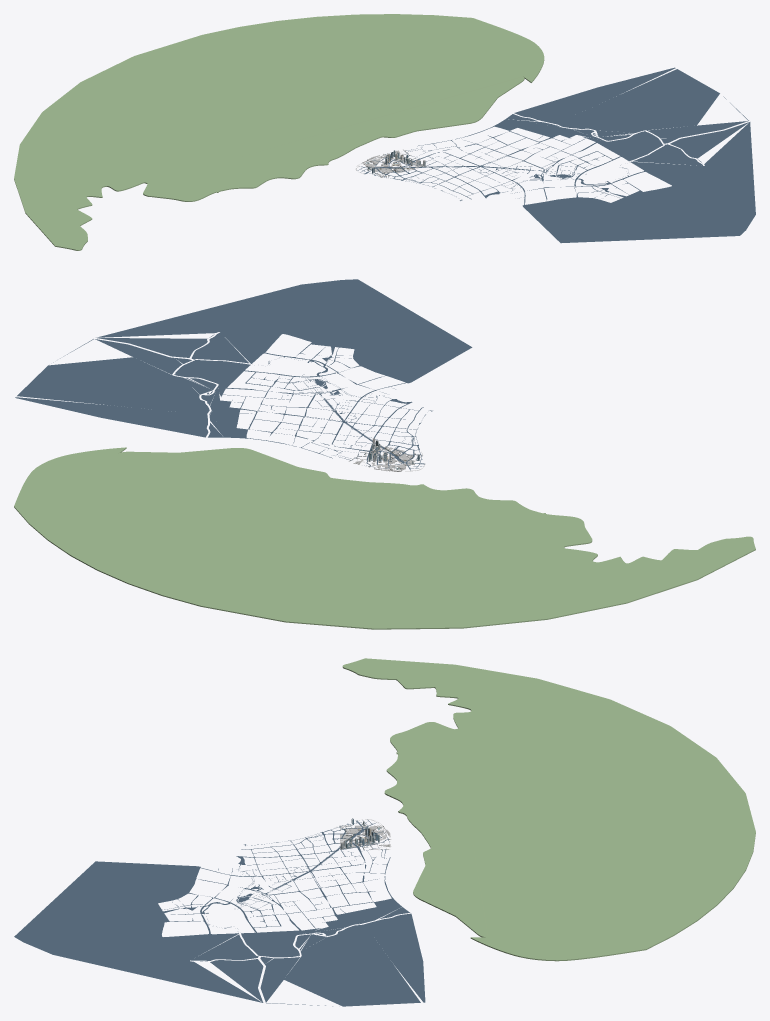
File: lujiazui-0.glb
The picture shows the model from 3 angles, top to bottom: view 1: azimuth 30°, elevation 25°; view 2: azimuth 150°, elevation 25°; view 3: azimuth 270°, elevation 25°; orthographic projection. The views are drawn at different scales.
Parts seen in each view (by area): view 1: source_833_DX_草地_part0, source_1281_Mat3d66-1303573-2113-6182_part0; view 2: source_833_DX_草地_part0, source_1281_Mat3d66-1303573-2113-6182_part0; view 3: source_833_DX_草地_part0, source_1281_Mat3d66-1303573-2113-6182_part0.
Part boxes in pixels (left/top/right/bottom): source_833_DX_草地_part0: left=14, top=14, right=544, bottom=250; source_1281_Mat3d66-1303573-2113-6182_part0: left=357, top=67, right=755, bottom=243; source_833_DX_草地_part0: left=14, top=447, right=755, bottom=629; source_1281_Mat3d66-1303573-2113-6182_part0: left=15, top=279, right=472, bottom=470; source_833_DX_草地_part0: left=342, top=658, right=755, bottom=961; source_1281_Mat3d66-1303573-2113-6182_part0: left=14, top=819, right=425, bottom=1006.
Size of the model in its own units: 17944 by 255 by 16156.
